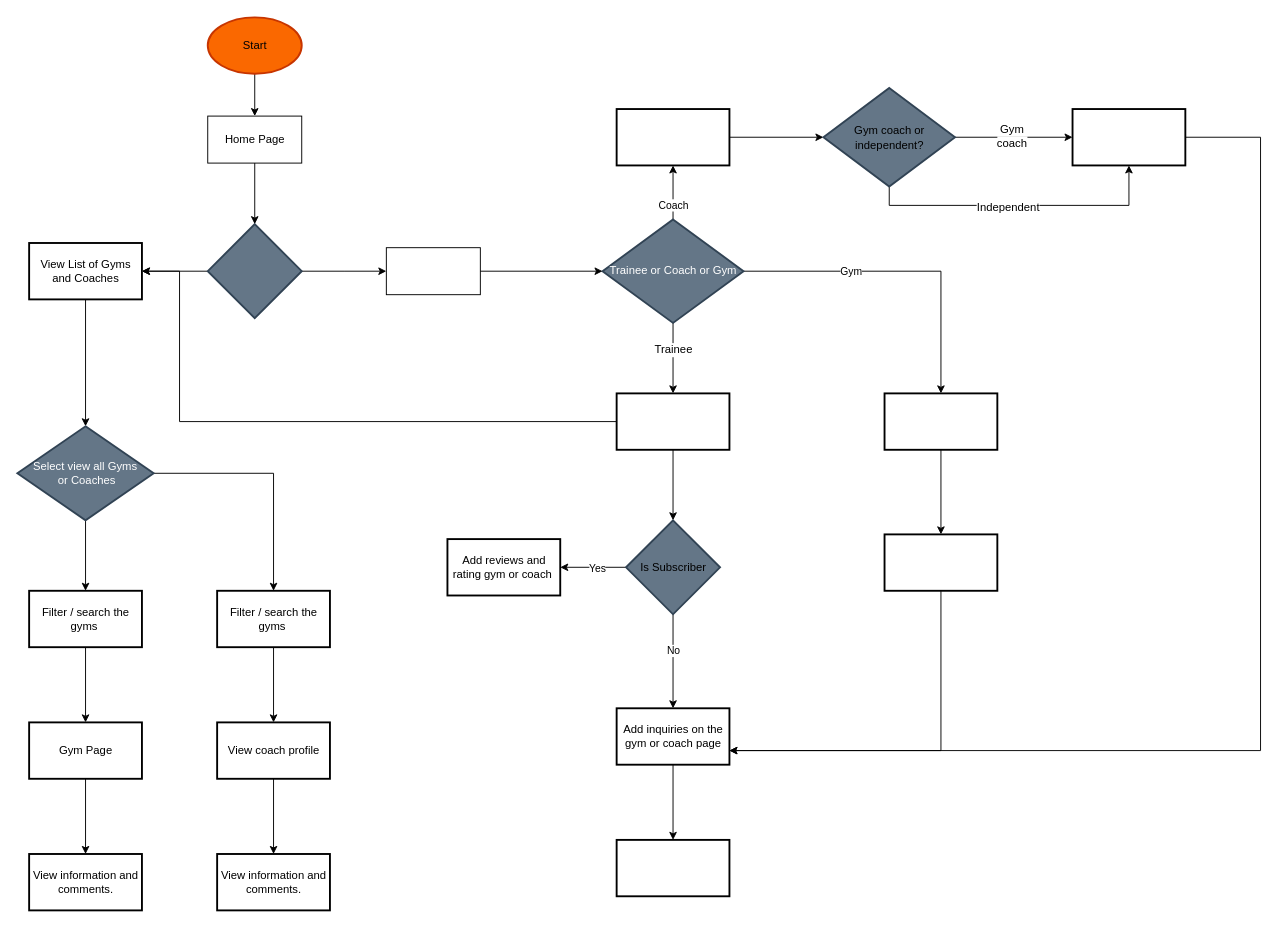
Image size: 1284x927. Some labels were removed from this diagram. Each missing label, with the centre of its shape:
"Add / update details of gym" belongs at (x=940, y=421).
"Add / update profile" belongs at (x=672, y=137).
"Join the gym or coach" belongs at (x=672, y=867).
"Manage and respond to inquiries" belongs at (x=940, y=562).
"Manage inquiries on coach profile" belongs at (x=1128, y=137).
"Sign Up / Log in" belongs at (x=432, y=271).
"View gym or coach" belongs at (x=672, y=421).
